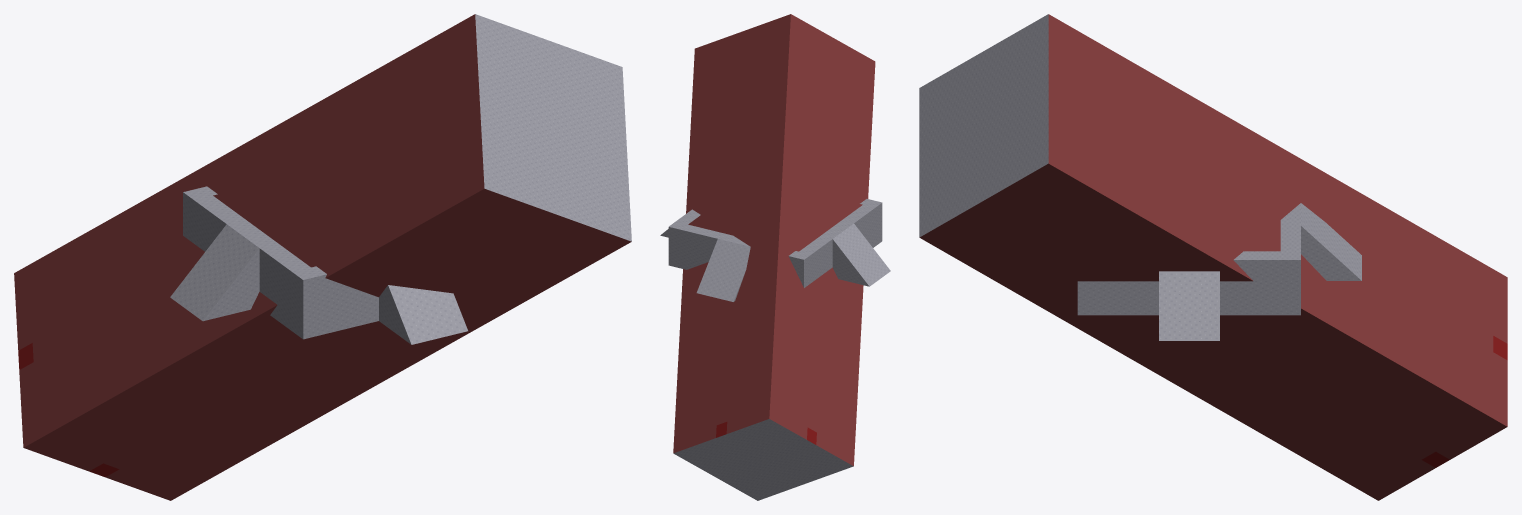
The model's file is Building_Destroied_Skyscraper.fbx.
3 renders of one model, left to right at view 1: azimuth 30°, elevation 25°; view 2: azimuth 150°, elevation 25°; view 3: azimuth 270°, elevation 25°, orthographic. The views are drawn at different scales.
Parts seen in each view (by area): view 1: Building_Skyscraper001, Building_Base001; view 2: Building_Skyscraper001, Building_Base001; view 3: Building_Skyscraper001, Building_Base001.
Part boxes in pixels (bbox=[...]): Building_Skyscraper001: bbox=[14, 14, 631, 500]; Building_Base001: bbox=[170, 186, 467, 344]; Building_Skyscraper001: bbox=[673, 14, 875, 500]; Building_Base001: bbox=[660, 199, 890, 301]; Building_Skyscraper001: bbox=[919, 14, 1507, 500]; Building_Base001: bbox=[1077, 203, 1361, 340].
Bounding box in the file's own units: 4458 × 5921 × 5798.
